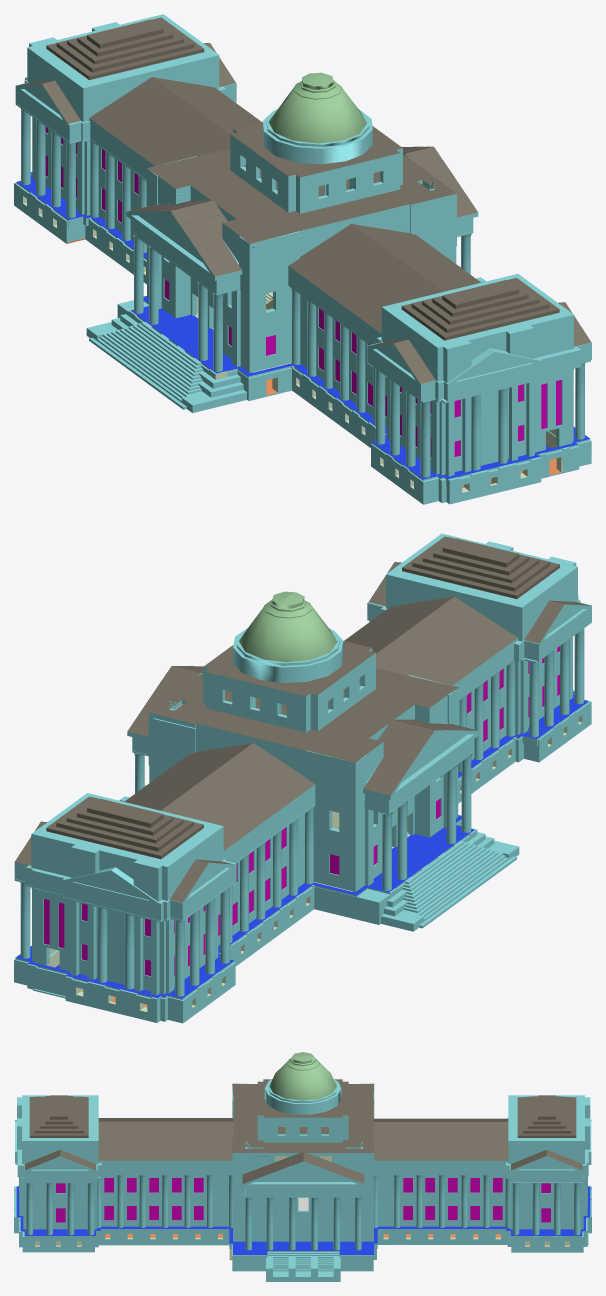
Rendered from b1f-4f_akunn.fbx.
The picture shows the model from 3 angles, top to bottom: view 1: azimuth 30°, elevation 25°; view 2: azimuth 150°, elevation 25°; view 3: azimuth 270°, elevation 25°; orthographic projection. The views are drawn at different scales.
Parts seen in each view (by area): view 1: building4f, building3f, building1f, building2f, buildingB1f; view 2: building4f, building3f, building1f, building2f, buildingB1f; view 3: building4f, building1f, building3f, building2f, buildingB1f.
Boxes of the visible parts, x1,y1,x2,y2 form: building4f: (27, 14, 573, 354); building3f: (15, 43, 591, 401); building1f: (16, 144, 590, 486); building2f: (15, 100, 590, 441); buildingB1f: (14, 171, 591, 504); building4f: (31, 533, 577, 873); building3f: (14, 562, 591, 920); building1f: (15, 663, 588, 999); building2f: (14, 620, 584, 960); buildingB1f: (14, 690, 591, 1023); building4f: (17, 1052, 590, 1166); building1f: (16, 1182, 590, 1259); building3f: (15, 1104, 591, 1196); building2f: (15, 1163, 591, 1225); buildingB1f: (14, 1185, 591, 1281).
Bounding box in the file's own units: 421 × 300 × 905.
